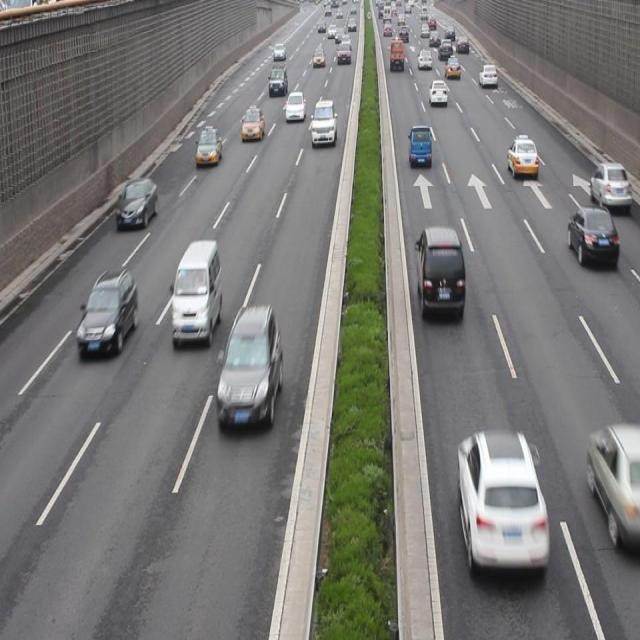car: (454, 431, 546, 575), (216, 304, 281, 433), (585, 421, 640, 551), (76, 266, 138, 360), (565, 204, 616, 270), (115, 181, 156, 230), (588, 162, 628, 209), (505, 134, 537, 180), (194, 124, 220, 165), (309, 101, 335, 142), (408, 124, 430, 168), (240, 107, 262, 143), (286, 88, 303, 122)
truck: (173, 239, 220, 339), (414, 225, 462, 320)
